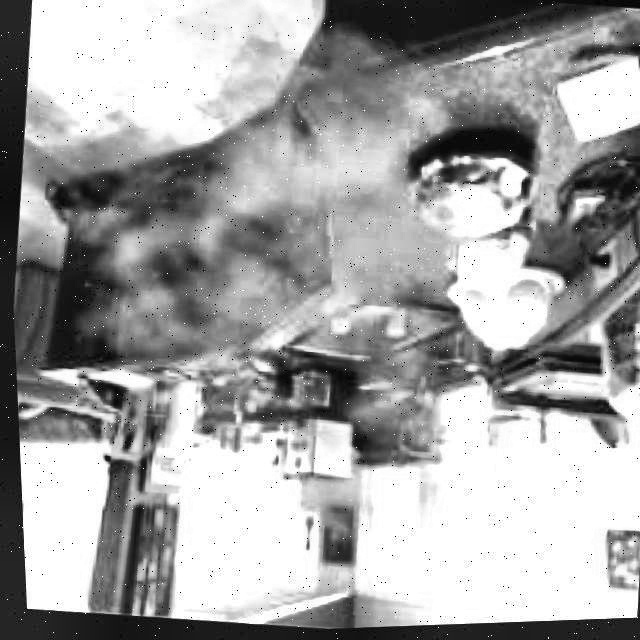Smoke: (0, 0, 616, 593)
